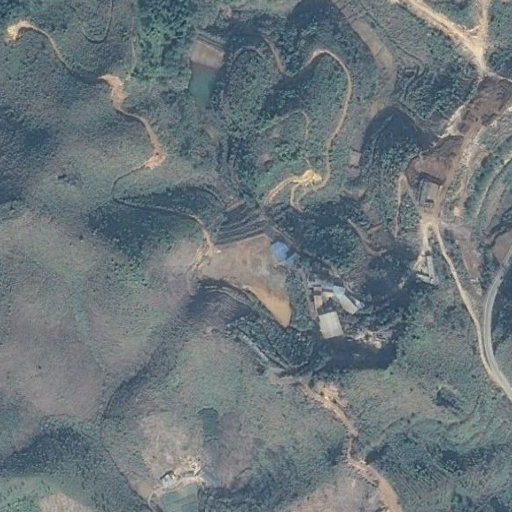tp: (176, 209, 296, 329)
